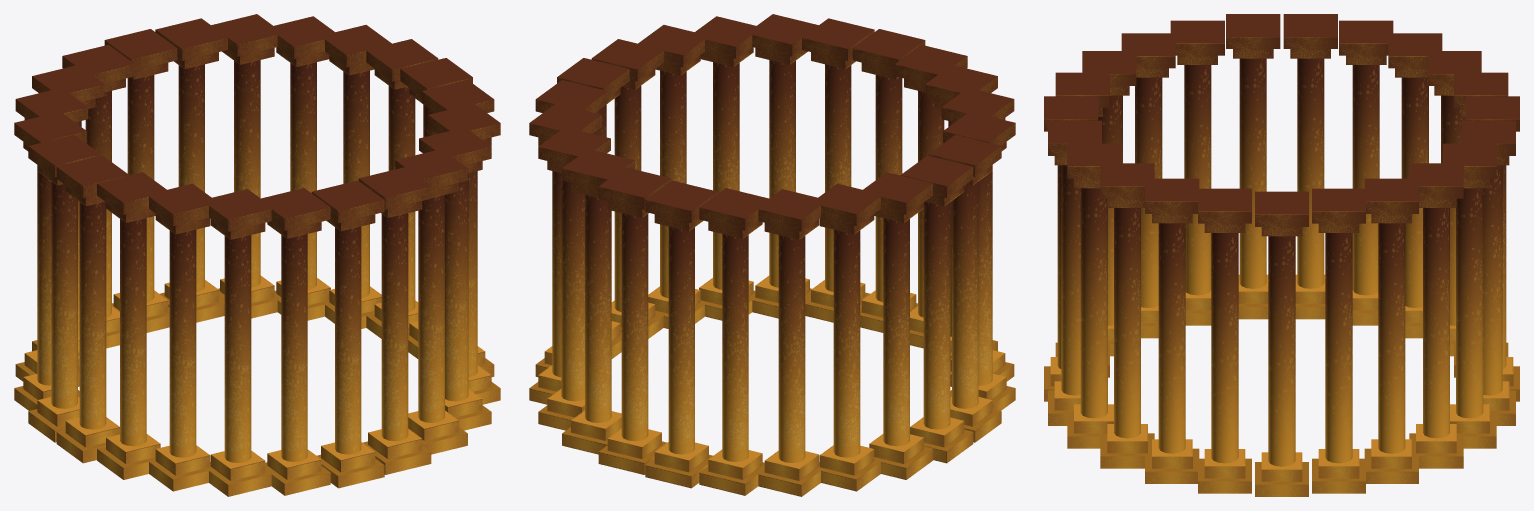
File: Elvis_Pillars_02.FBX
3 renders of one model, left to right at view 1: azimuth 30°, elevation 25°; view 2: azimuth 150°, elevation 25°; view 3: azimuth 270°, elevation 25°, orthographic.
Parts seen in each view (by area): view 1: Pillar024; view 2: Pillar024; view 3: Pillar024.
Part boxes in pixels (x1,y1,x2,y2): Pillar024: (14,14,500,496); Pillar024: (529,14,1015,496); Pillar024: (1044,14,1519,496).
Bounding box in the file's own units: 17.54 × 11.5 × 17.57.
